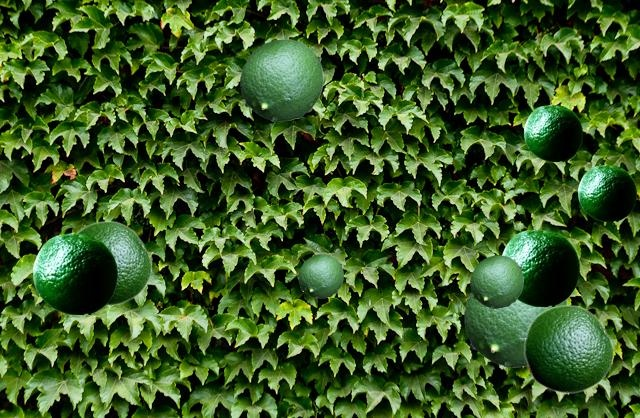calamansi: (523, 304, 613, 393), (464, 293, 567, 366), (33, 232, 116, 313), (240, 39, 322, 120), (76, 220, 151, 305), (502, 228, 578, 305), (578, 164, 635, 220), (524, 104, 581, 160), (470, 255, 522, 307), (298, 254, 342, 297)
